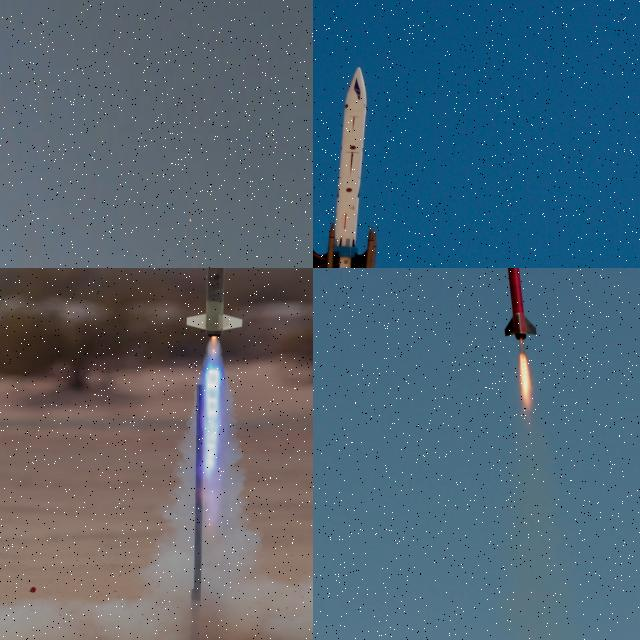Rocket: (313, 65, 380, 268), (185, 268, 244, 339), (503, 268, 538, 341), (189, 218, 192, 222)
